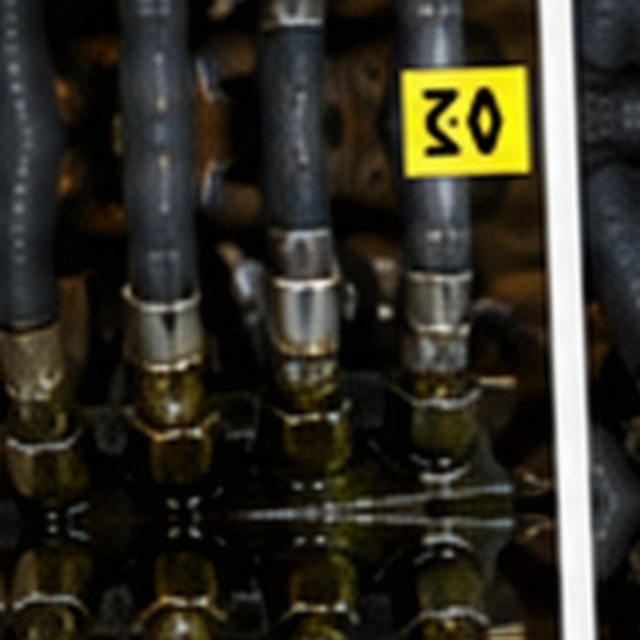hydraulic_oil_leak: (197, 224, 457, 475)
